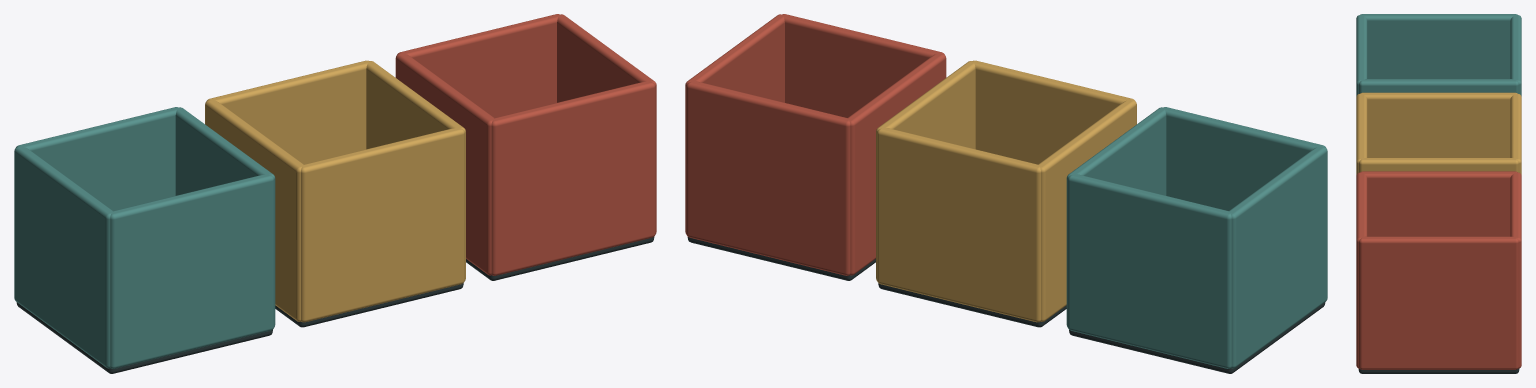
Rendered from sorting.glb.
3 views of the same model, side by side, from view 1: azimuth 30°, elevation 25°; view 2: azimuth 150°, elevation 25°; view 3: azimuth 270°, elevation 25° (orthographic). The views are drawn at different scales.
Parts seen in each view (by area): view 1: sorting; view 2: sorting; view 3: sorting.
Part boxes in pixels (x1,y1,x2,y2): sorting: (14, 14, 656, 373); sorting: (685, 14, 1327, 373); sorting: (1356, 14, 1521, 373).
Bounding box in the file's own units: 1.68 × 0.4675 × 0.515.
